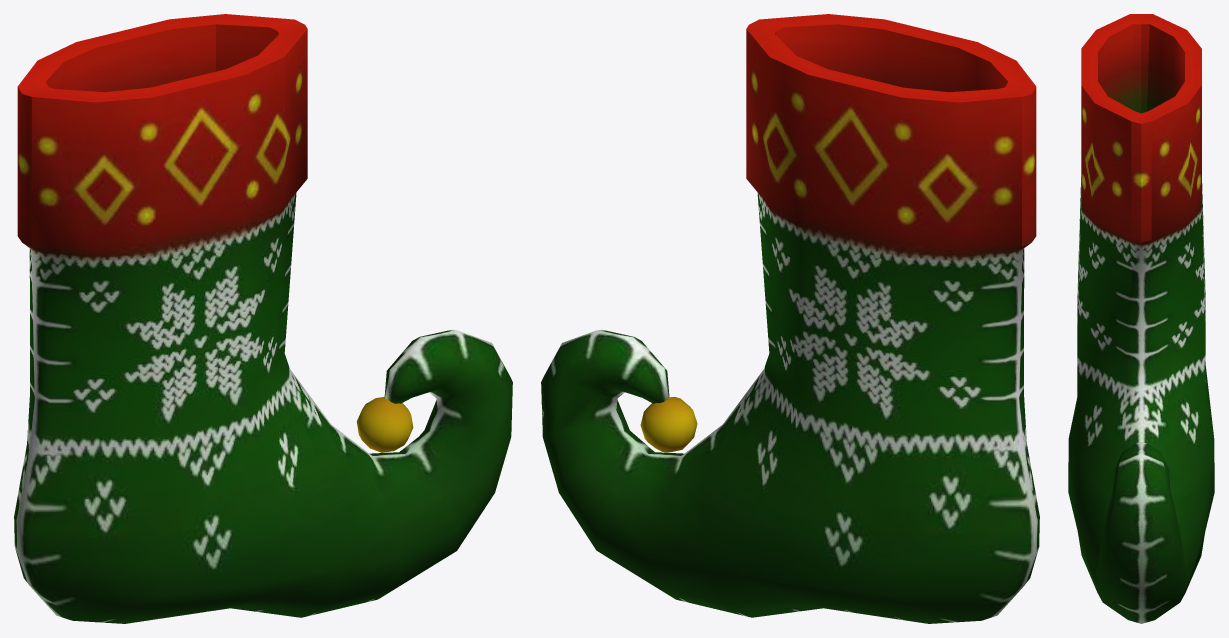
Rendered from stocking.small.worldmodel.glb.
3 renders of one model, left to right at view 1: azimuth 30°, elevation 25°; view 2: azimuth 150°, elevation 25°; view 3: azimuth 270°, elevation 25°, orthographic. The views are drawn at different scales.
Parts seen in each view (by area): view 1: Sock_1; view 2: Sock_1; view 3: Sock_1.
Boxes of the visible parts, left/top/right/bottom form: Sock_1: left=14, top=14, right=512, bottom=623; Sock_1: left=541, top=14, right=1039, bottom=623; Sock_1: left=1068, top=14, right=1214, bottom=623.
Size of the model in its own units: 0.3546 by 0.4058 by 0.1149.
Materials: 1 (1 with a texture image).
